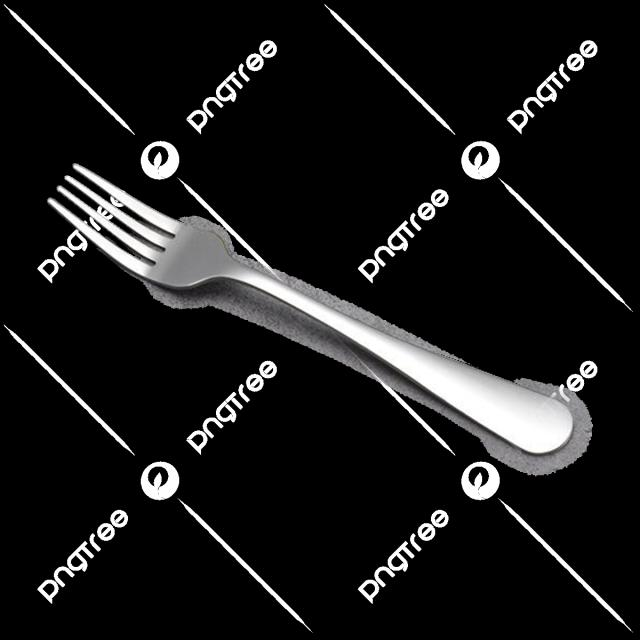Garpu: (25, 149, 587, 471)
